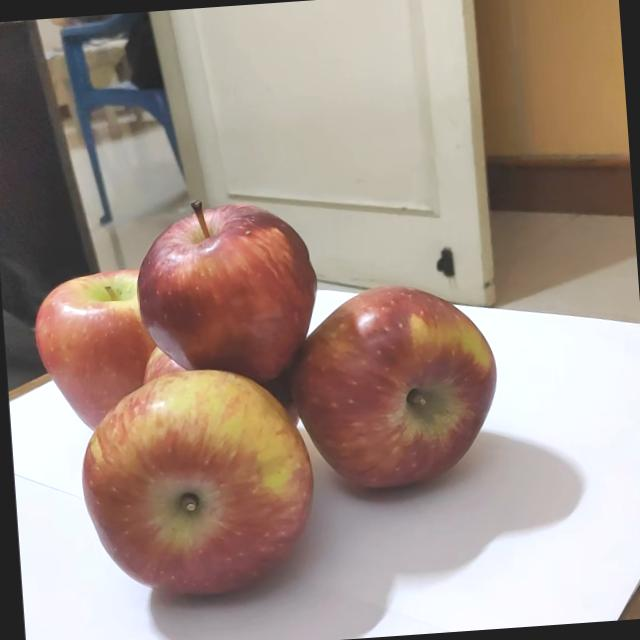apple: (260, 251, 508, 514), (82, 380, 280, 586), (112, 184, 305, 382), (0, 238, 177, 416)
